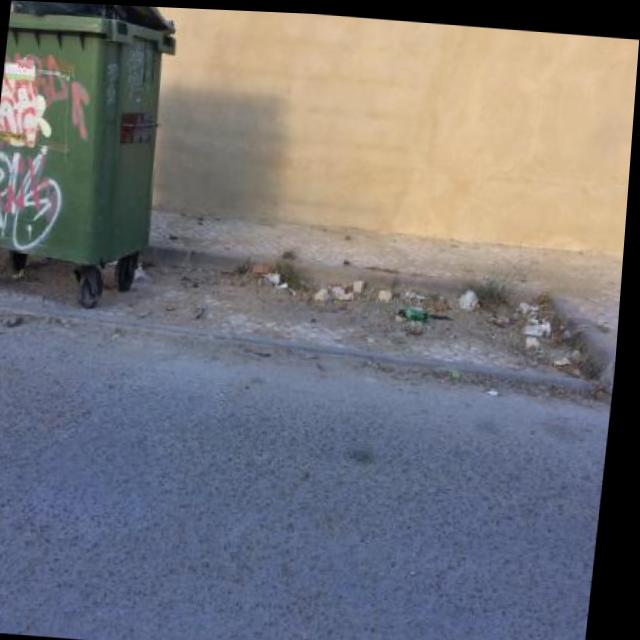plastic: (399, 306, 428, 322), (519, 323, 545, 337)
